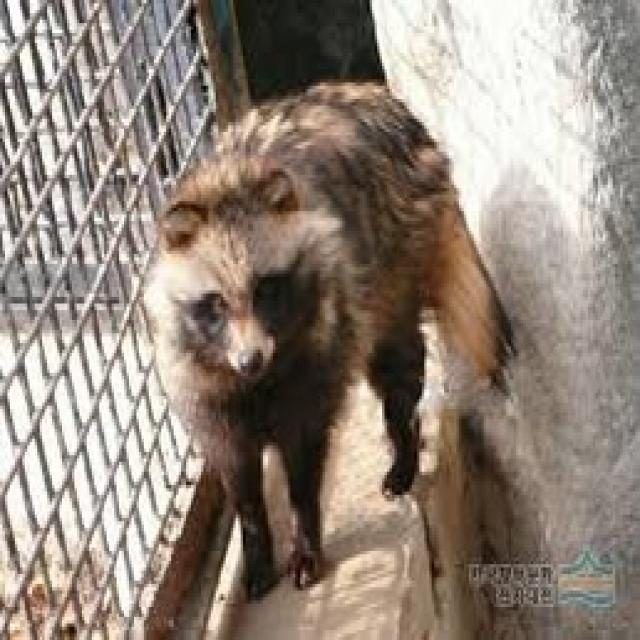racoon: (149, 73, 507, 601)
